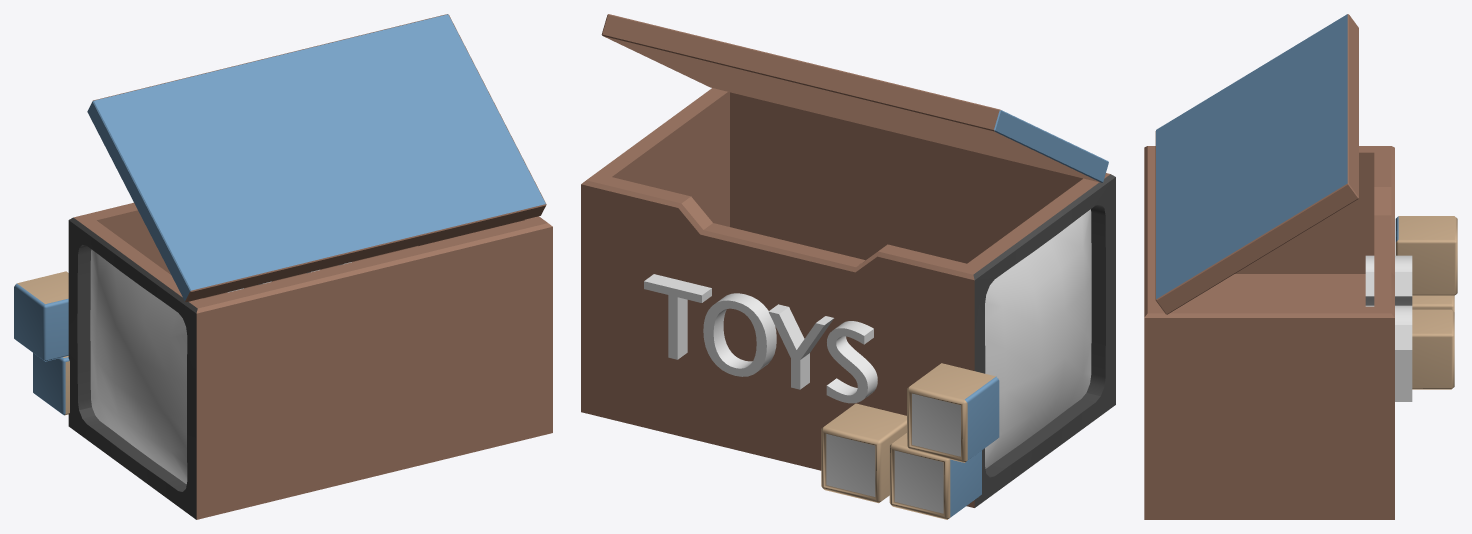
3 views of the same model, side by side, from view 1: azimuth 30°, elevation 25°; view 2: azimuth 150°, elevation 25°; view 3: azimuth 270°, elevation 25° (orthographic). The views are drawn at different scales.
Parts seen in each view (by area): view 1: ToyBox_Tv, Lid, Block_2, Block3; view 2: ToyBox_Tv, Lid, Block_2, Block_1, Block3, O, S, T, Y; view 3: ToyBox_Tv, Lid, Block_2, Block_1, T, Y, Block3, S, O.
Part boxes in pixels (x1,y1,x2,y2): ToyBox_Tv: [68, 202, 552, 519]; Lid: [87, 14, 546, 302]; Block_2: [14, 271, 68, 361]; Block3: [33, 353, 69, 415]; ToyBox_Tv: [581, 88, 1115, 507]; Lid: [601, 14, 1108, 182]; Block_2: [907, 363, 999, 462]; Block_1: [821, 403, 906, 503]; Block3: [889, 433, 981, 519]; O: [703, 293, 776, 376]; S: [826, 321, 877, 403]; T: [644, 274, 711, 359]; Y: [768, 304, 833, 389]; ToyBox_Tv: [1144, 146, 1394, 519]; Lid: [1155, 14, 1358, 314]; Block_2: [1395, 216, 1457, 295]; Block_1: [1412, 309, 1454, 389]; T: [1395, 325, 1412, 401]; Y: [1365, 272, 1412, 305]; Block3: [1412, 295, 1454, 311]; S: [1365, 255, 1412, 271]; O: [1365, 305, 1412, 324].
Size of the model in its own units: 138 by 119 by 100.
